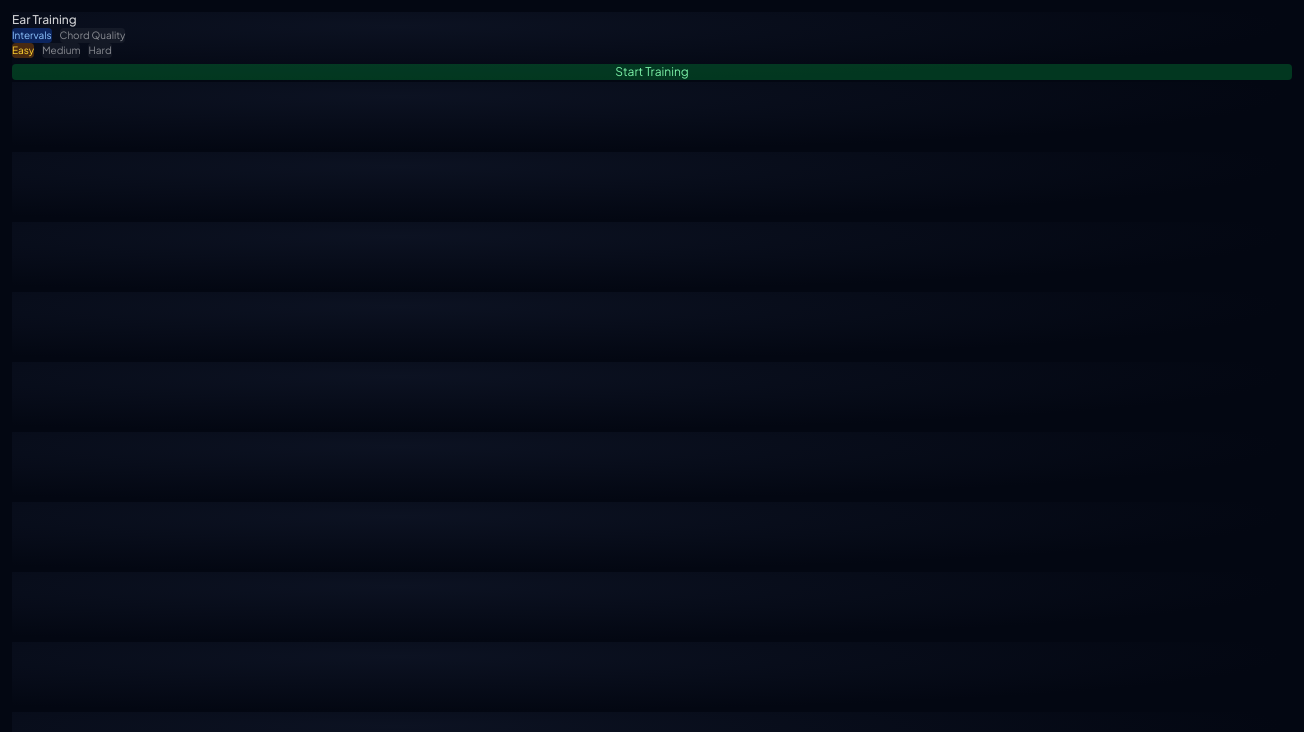
Test: EarTrainingPanel › clicking start shows training UI
Click the button "Start Training".
click(652, 72)  # box [12,64,1292,80]
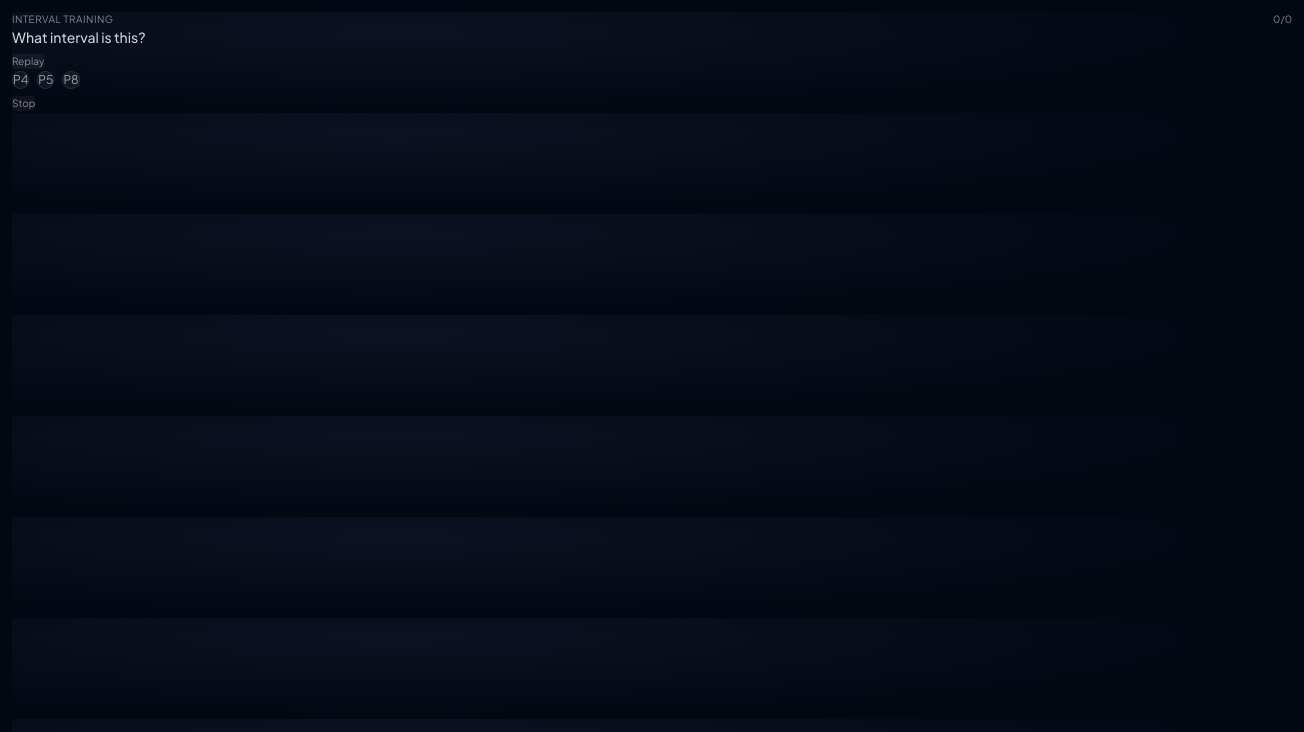
Now the text "What interval is this?" is shown, box [12,28,146,46]
Now the button "Replay" is shown, box [12,54,44,69]
Now the button "Stop" is shown, box [12,96,35,111]
